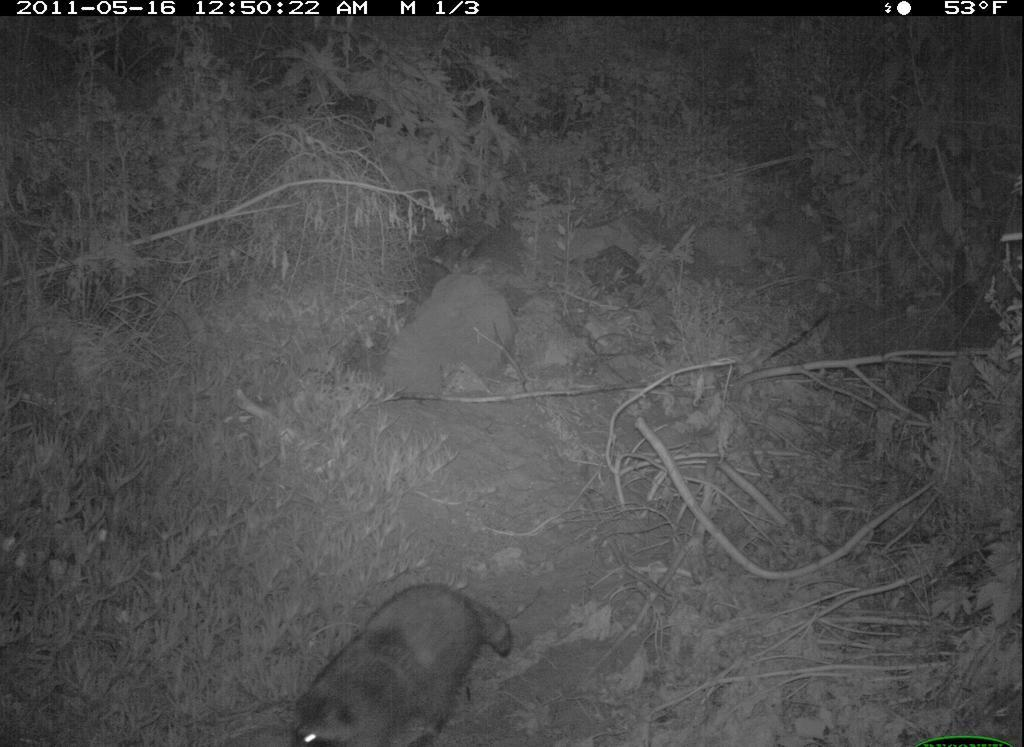raccoon: (286, 580, 521, 747)
